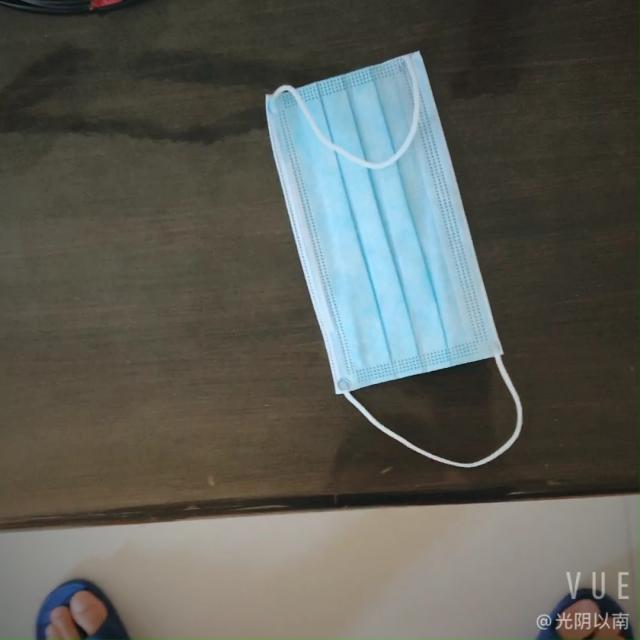face mask: (254, 48, 496, 416)
